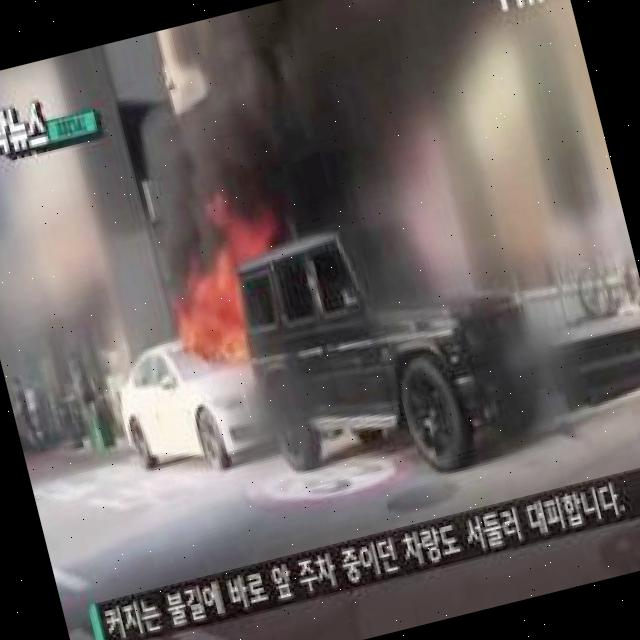fire: (178, 252, 256, 364)
